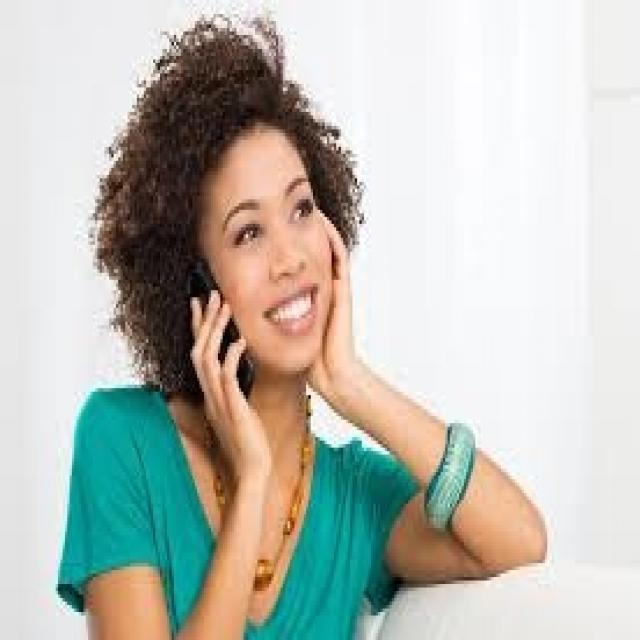phone: (155, 200, 276, 438)
